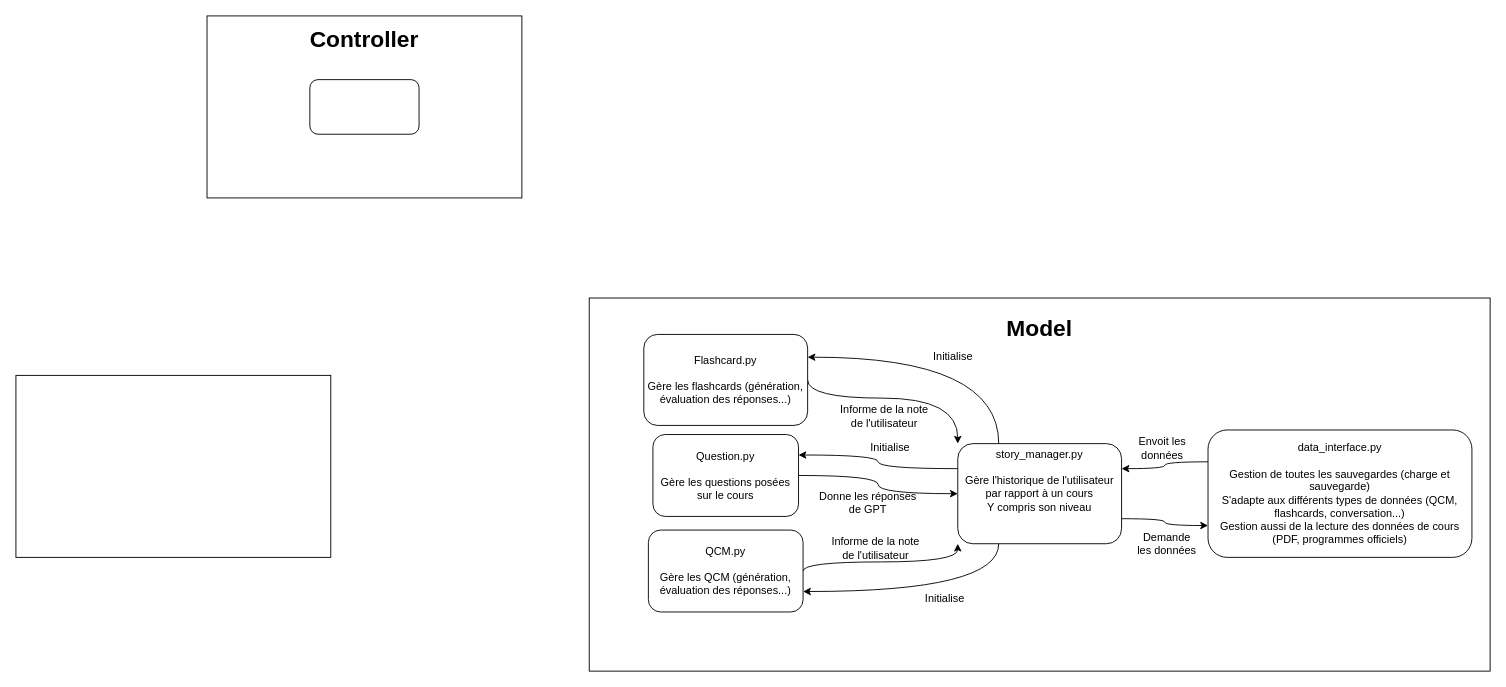
Some shapes in this 1506 by 687 pixel diagram are drawn without their labels. Each missing label, with the centre of its shape:
main.py Associe les routes: point 364,106
View prompt.js style.css index.html: point 173,465
